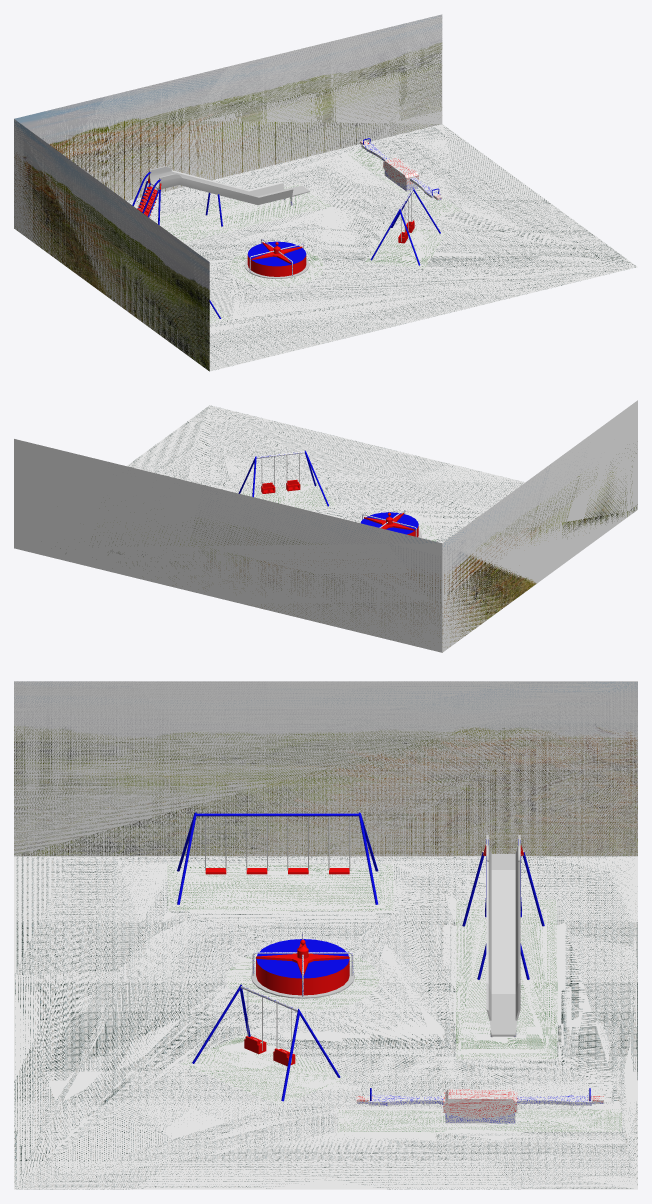
File: Baloicos.dae
The picture shows the model from 3 angles, top to bottom: view 1: azimuth 30°, elevation 25°; view 2: azimuth 150°, elevation 25°; view 3: azimuth 270°, elevation 25°; orthographic projection. The views are drawn at different scales.
Visible parts, largest first — view 1: SketchUp (×10), image_1, image_0; view 2: SketchUp (×3), image_0, image_1; view 3: SketchUp (×14), image_0.
Boxes of the visible parts, <box> form: SketchUp (×10): <box>14,14,637,371</box>; image_1: <box>14,15,442,199</box>; image_0: <box>14,120,209,371</box>; SketchUp (×3): <box>14,400,637,652</box>; image_0: <box>442,448,637,647</box>; image_1: <box>60,486,440,635</box>; SketchUp (×14): <box>14,681,637,1189</box>; image_0: <box>14,681,637,856</box>.
Size of the model in its own units: 1676 by 1326 by 411.
